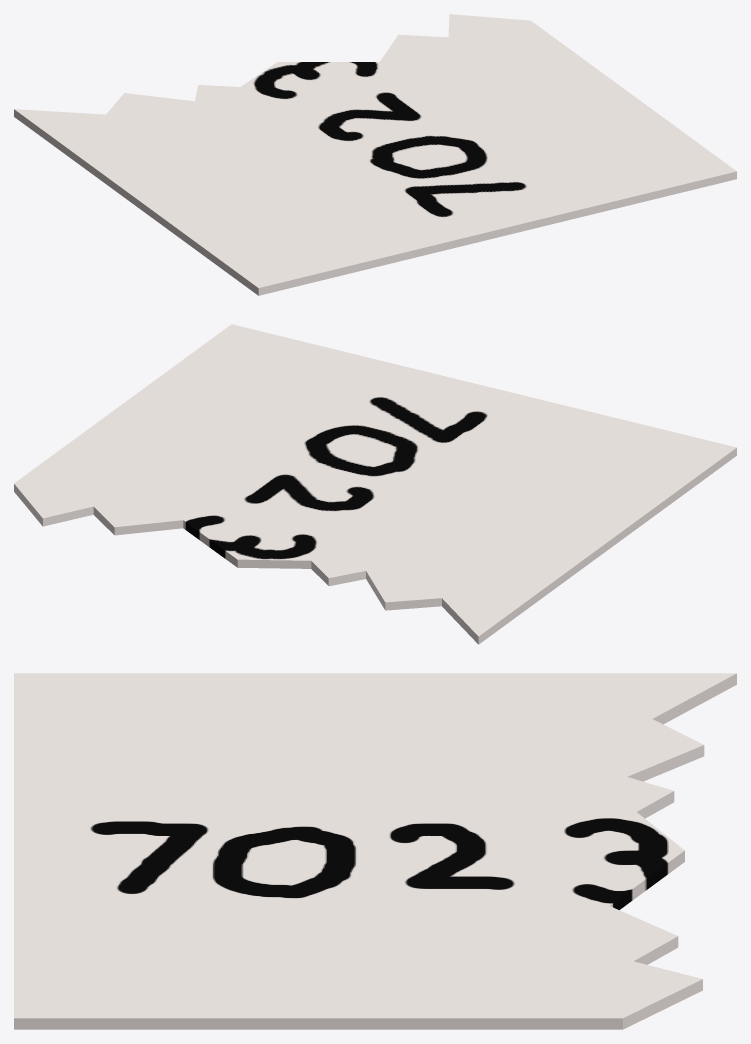
The model's file is paper1.fbx.
3 views of the same model, one above another, from view 1: azimuth 30°, elevation 25°; view 2: azimuth 150°, elevation 25°; view 3: azimuth 270°, elevation 25° (orthographic). The views are drawn at different scales.
Parts seen in each view (by area): view 1: Plane; view 2: Plane; view 3: Plane.
Boxes of the visible parts, left/top/right/bottom form: Plane: left=14, top=14, right=736, bottom=295; Plane: left=14, top=324, right=736, bottom=644; Plane: left=14, top=673, right=736, bottom=1029.
Bounding box in the file's own units: 200 × 3.09 × 177.
